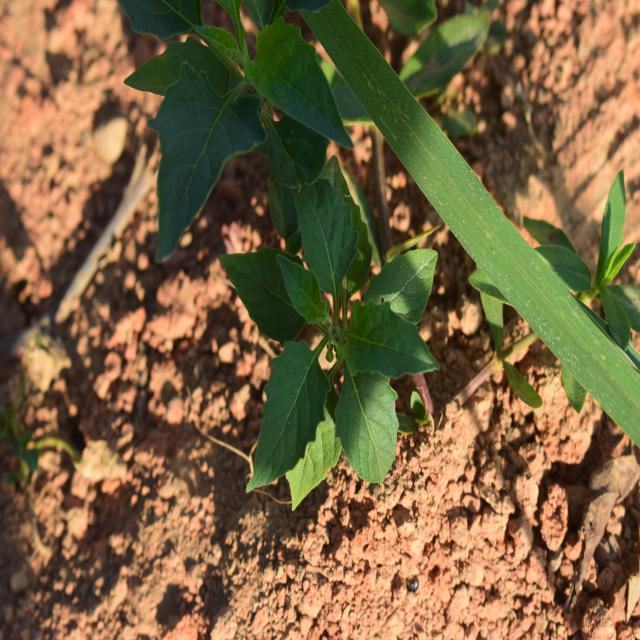Black_nightshade: (232, 186, 439, 493)
